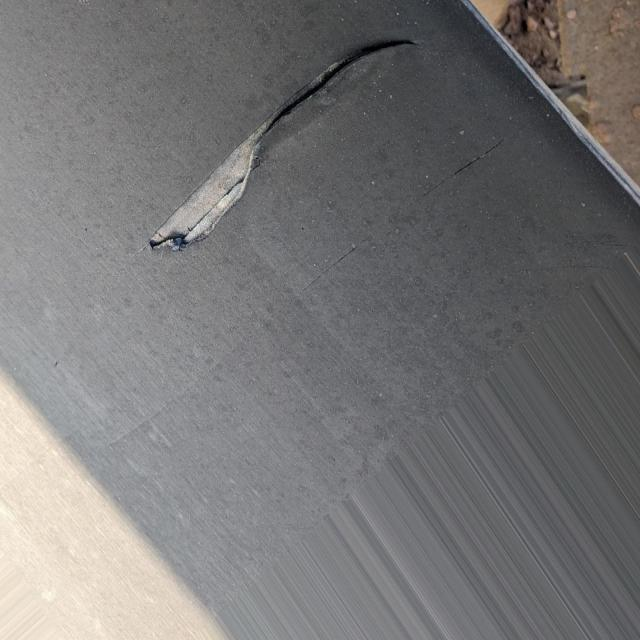Tear: (144, 34, 423, 258)
